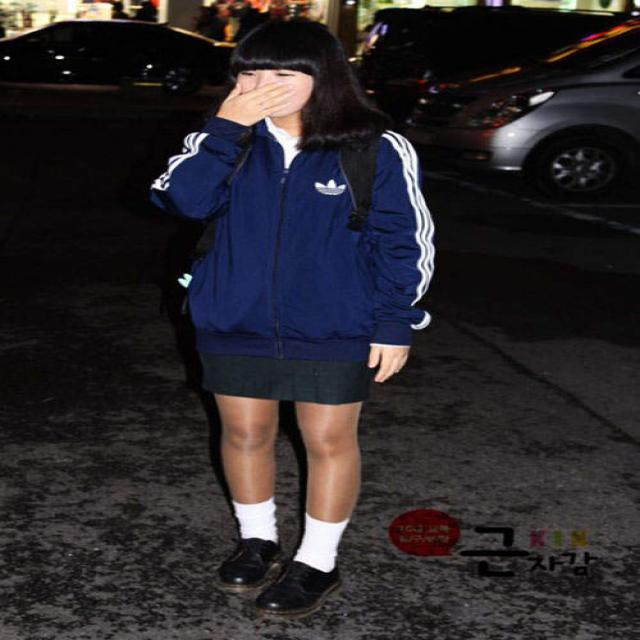nomask: (241, 46, 309, 117)
